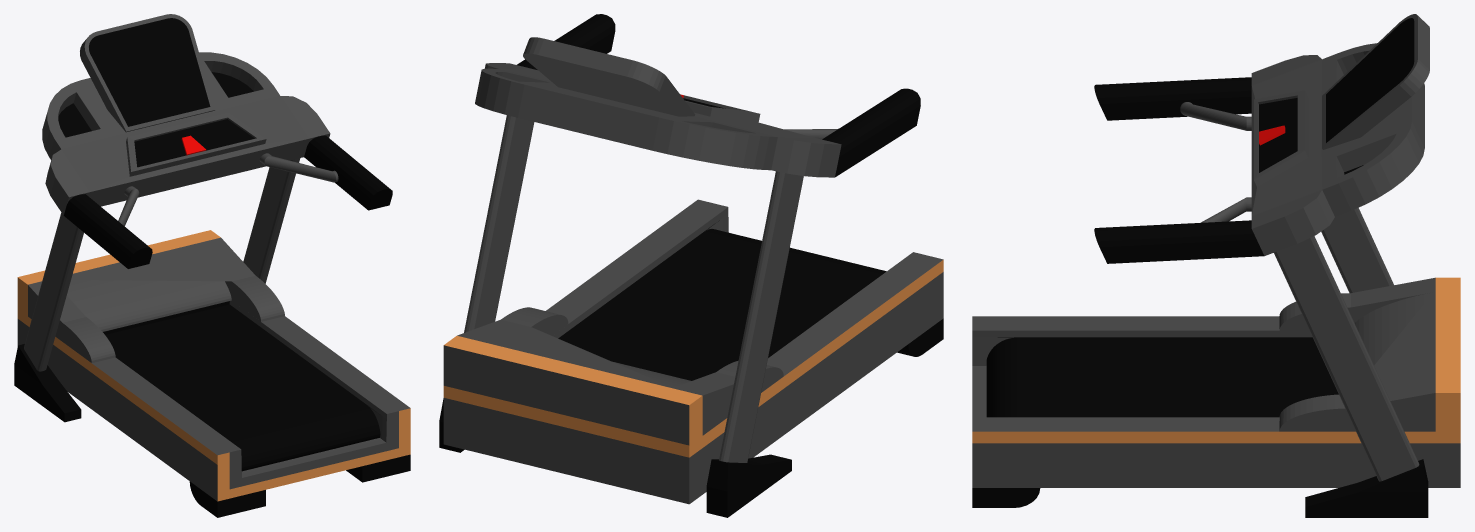
The model's file is Treadmill Ver1 Lv1.fbx.
The picture shows the model from 3 angles, left to right: view 1: azimuth 30°, elevation 25°; view 2: azimuth 150°, elevation 25°; view 3: azimuth 270°, elevation 25°; orthographic projection. The views are drawn at different scales.
Parts seen in each view (by area): view 1: Treadmill 1 Lv1; view 2: Treadmill 1 Lv1; view 3: Treadmill 1 Lv1.
Boxes of the visible parts, box(x1,y1,x2,y2) form: Treadmill 1 Lv1: box(14, 14, 410, 517); Treadmill 1 Lv1: box(439, 14, 943, 517); Treadmill 1 Lv1: box(972, 14, 1460, 517).
Size of the model in its own units: 271 by 334 by 358.
